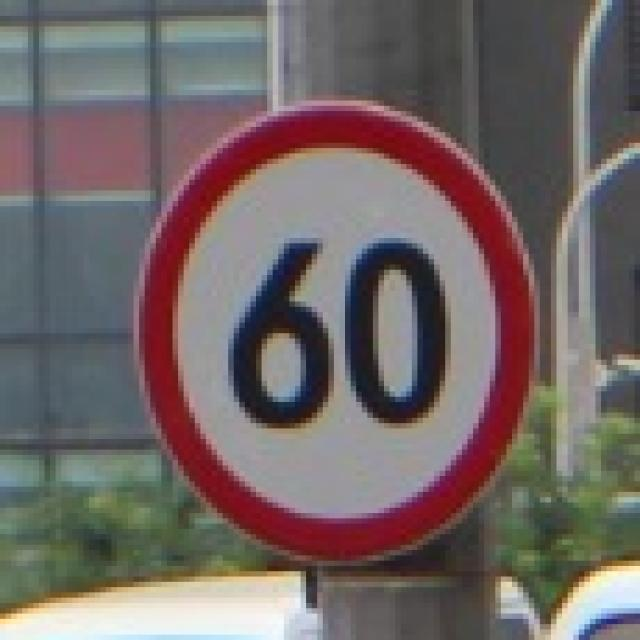Speed Limit -60-: (228, 238, 450, 430)
